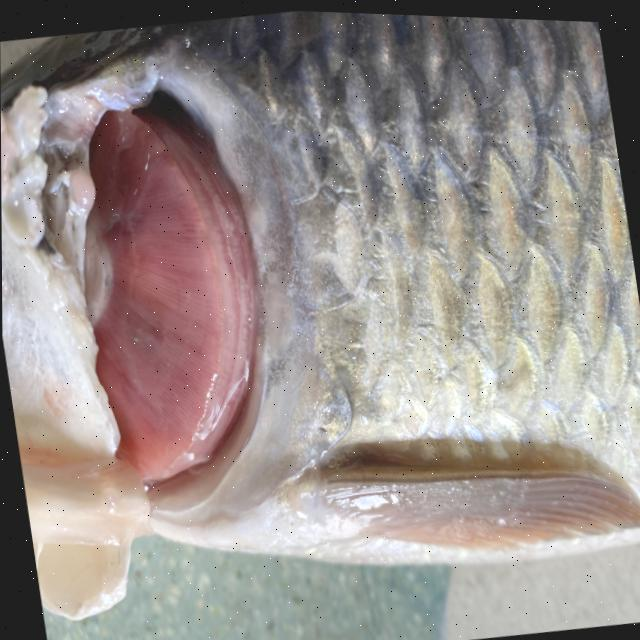Fresh: (61, 42, 317, 556)
